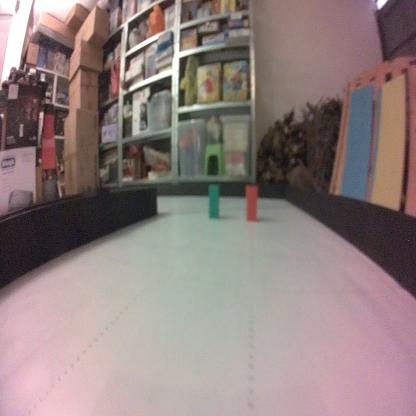green: (207, 179, 220, 223)
red: (244, 182, 258, 223)
